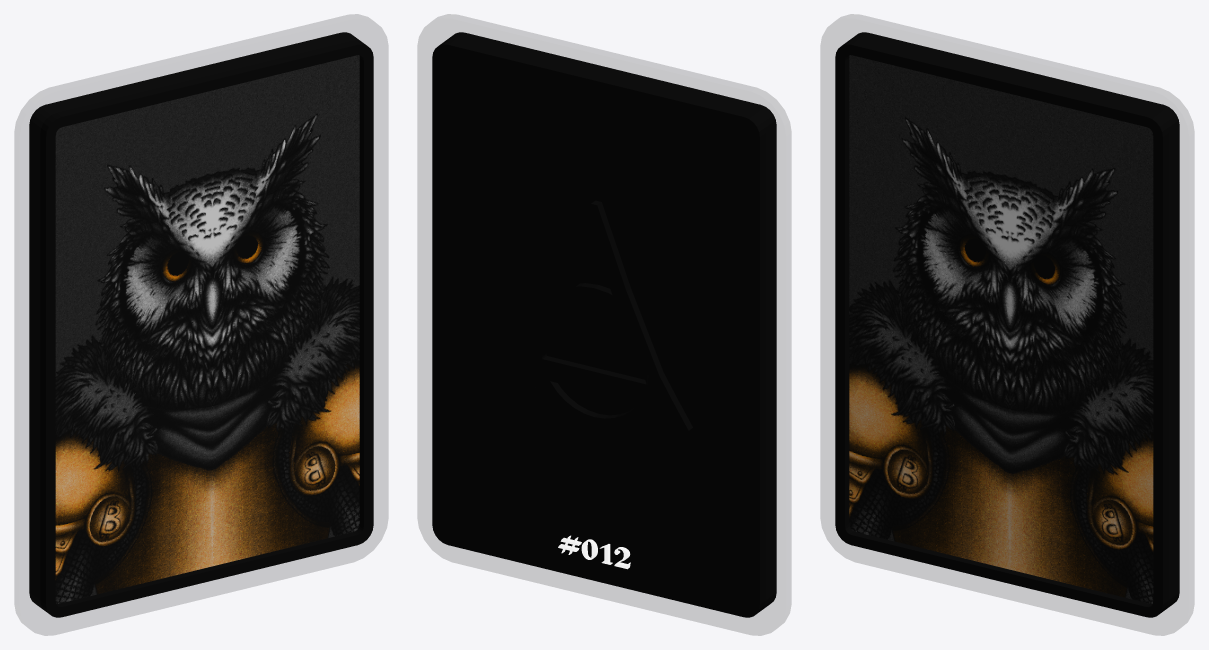
3 renders of one model, left to right at view 1: azimuth 30°, elevation 25°; view 2: azimuth 150°, elevation 25°; view 3: azimuth 330°, elevation 25°, orthographic.
Parts seen in each view (by area): view 1: Card.147, CardBorder.147; view 2: Card.147, CardBorder.147, Площина.040, Текст; view 3: Card.147, CardBorder.147.
Part boxes in pixels (<box>): Card.147: <box>29,32,373,617</box>; CardBorder.147: <box>15,14,387,635</box>; Card.147: <box>432,32,776,617</box>; CardBorder.147: <box>418,14,790,635</box>; Площина.040: <box>500,200,692,436</box>; Текст: <box>558,535,630,569</box>; Card.147: <box>835,32,1179,617</box>; CardBorder.147: <box>821,14,1193,635</box>.
Size of the model in its own units: 1.1 by 1.55 by 0.1091.
Materials: 5 (1 with a texture image).
